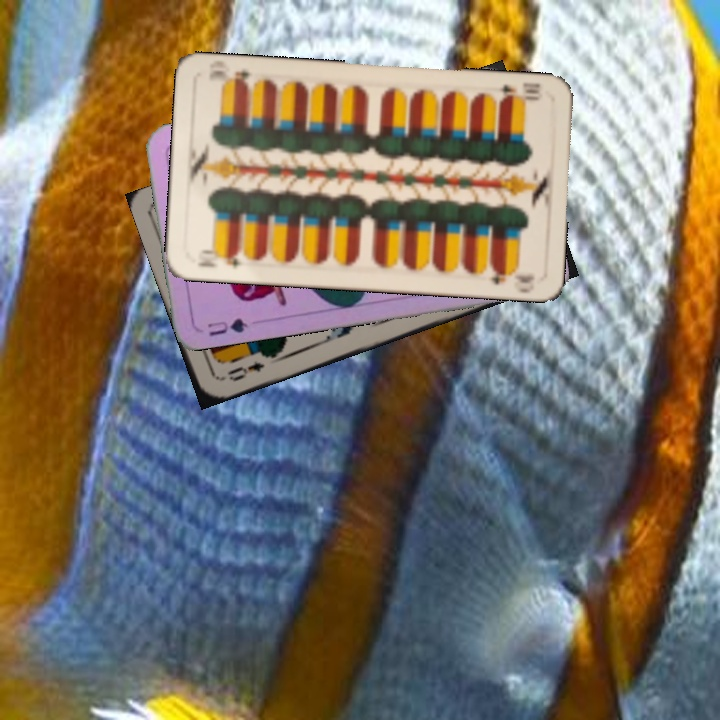E10: (490, 79, 543, 105), (194, 246, 245, 270)
EO: (222, 357, 268, 385)
GU: (203, 314, 250, 339)
